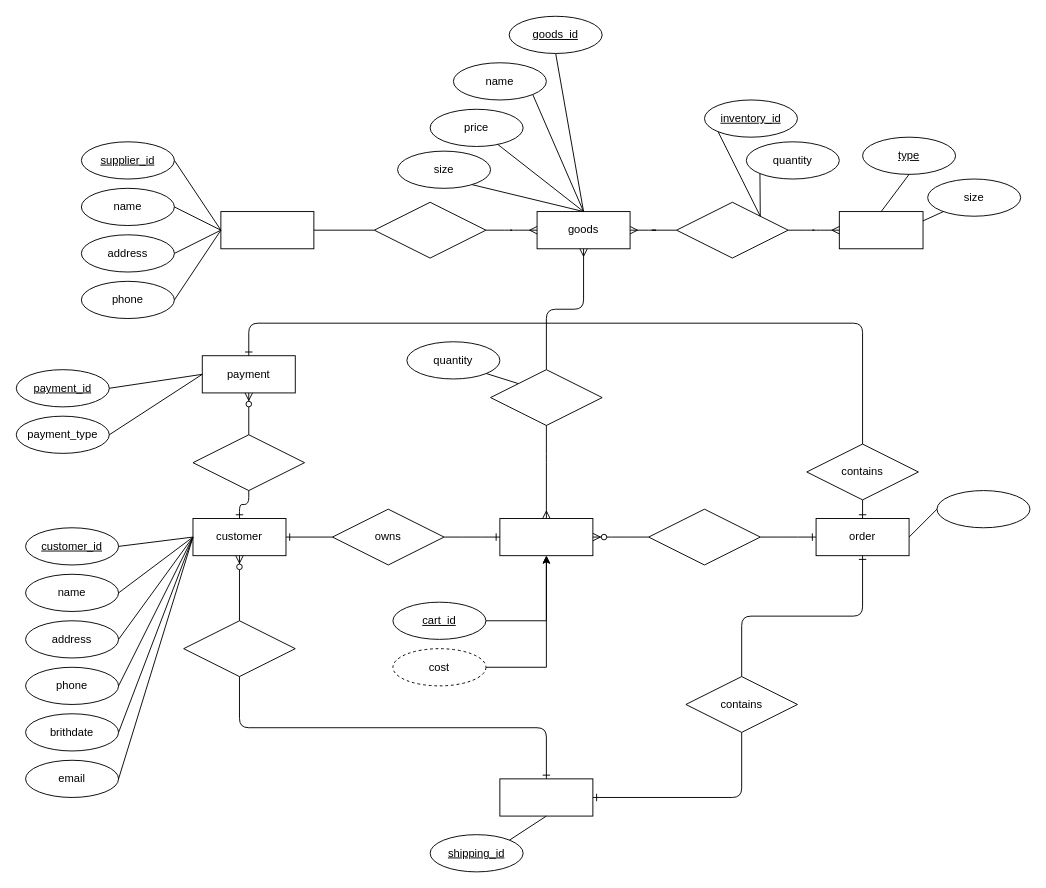
Image size: 1046x888. Some labels were removed from this diagram. Here are the shapes that lost their labels. From the top down, the centre of each, then its label:
point (267, 230): supplier
point (429, 229): supplies
point (732, 229): inventory
point (880, 230): category
point (546, 397): cart_item
point (248, 462): has
point (983, 509): order_id
point (546, 537): shopping_cart
point (704, 536): create
point (239, 648): ships
point (546, 797): shipping
